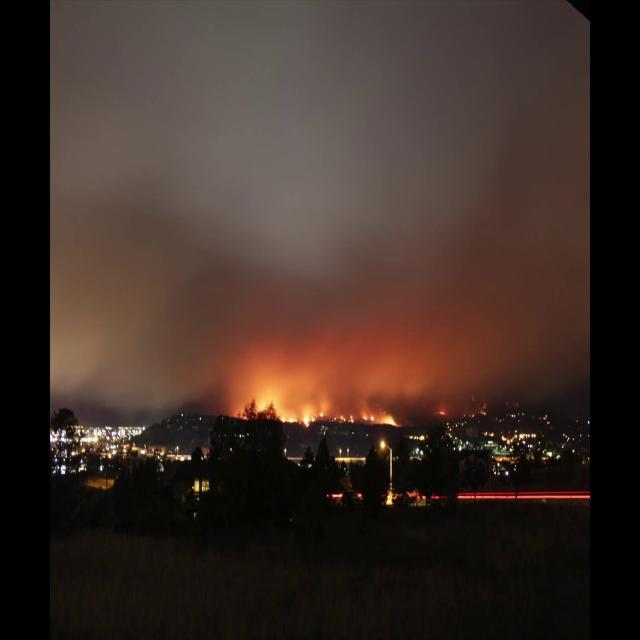Fire: (280, 409, 323, 426), (253, 392, 281, 415), (334, 412, 354, 424), (362, 414, 374, 422), (438, 410, 446, 414)
